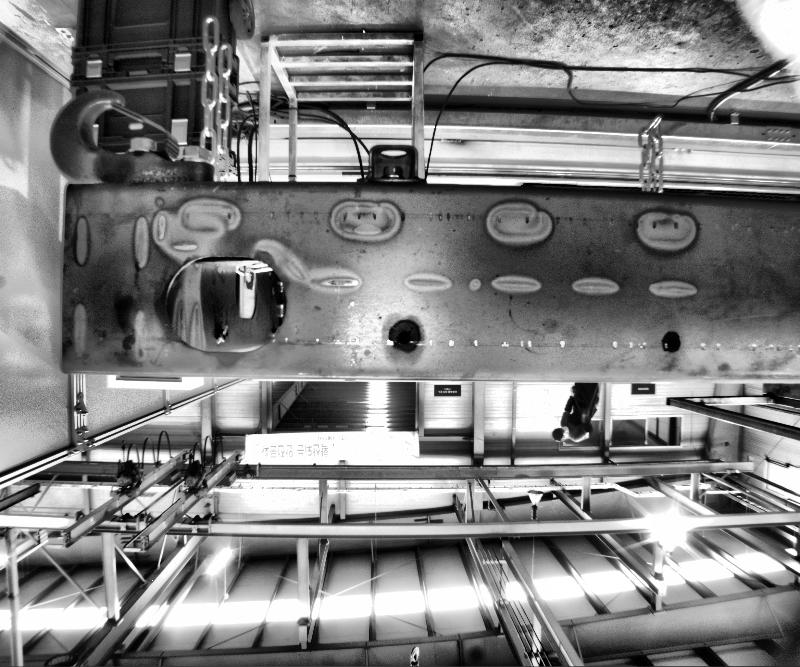bolt: (380, 163, 404, 181)
bracket: (356, 143, 424, 188)
hole: (157, 255, 289, 354), (395, 330, 413, 347), (664, 335, 680, 348)
